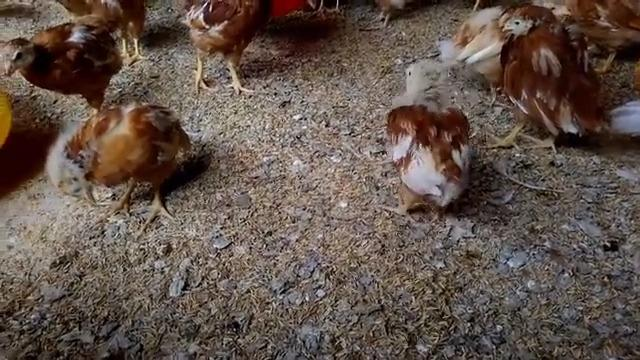AbNormal: (43, 109, 204, 221), (386, 104, 474, 209)
